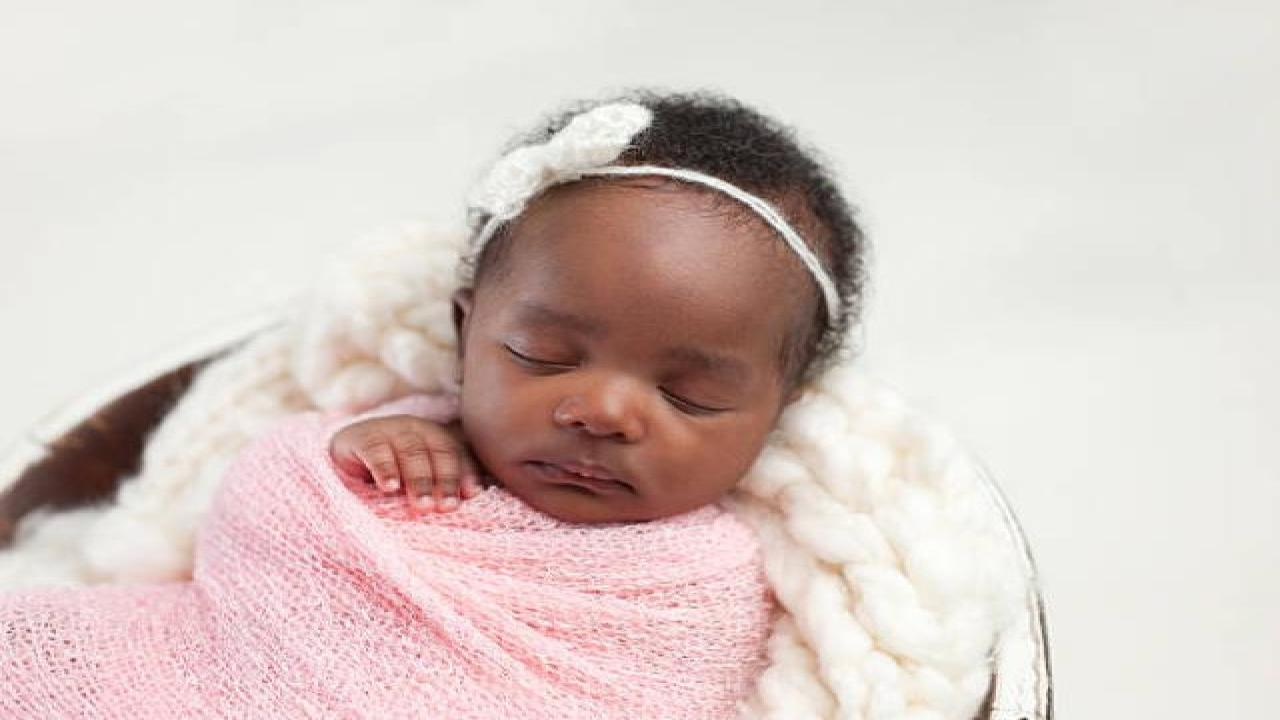hand: (334, 422, 484, 514)
